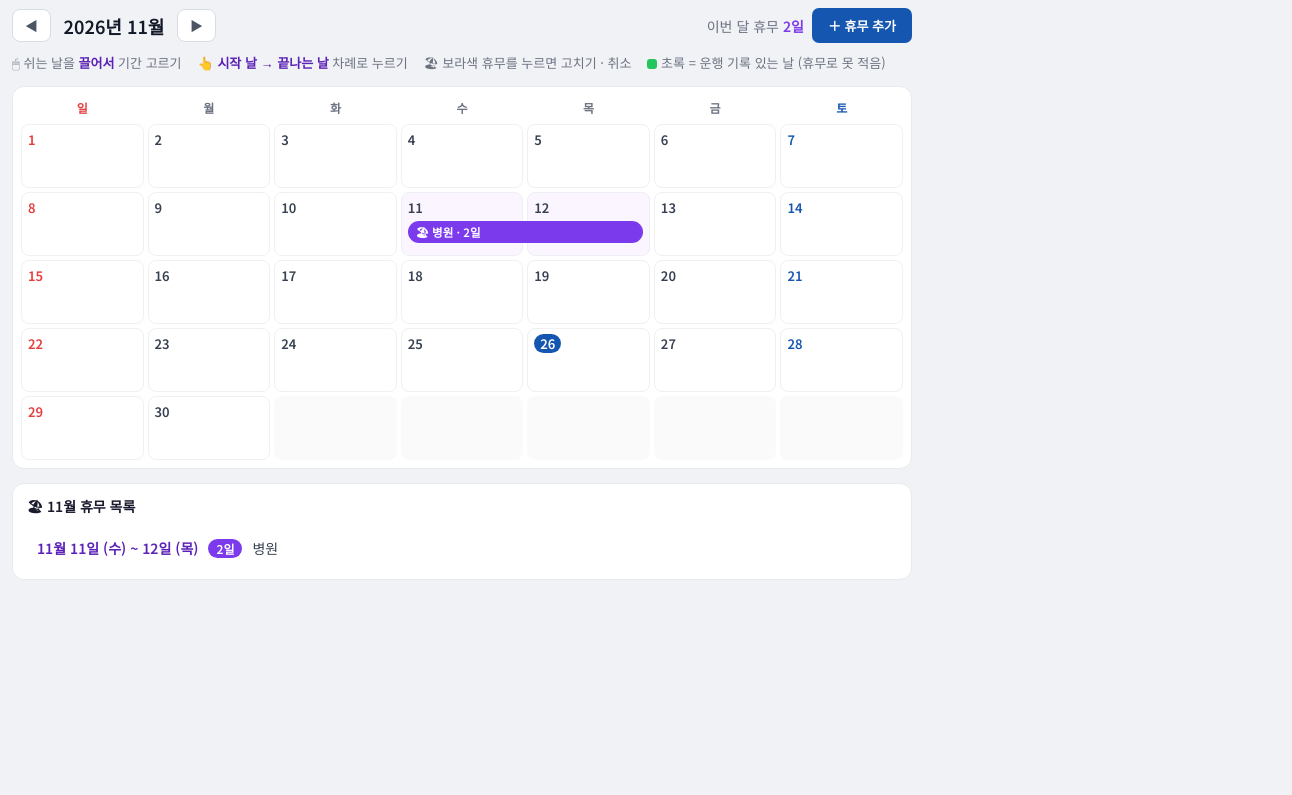
Test: 시작 날 → 끝나는 날 차례로 누르면 기간, 같은 사유로 하루씩 저장
Press Enter in the button "20", box top-left (654, 260), bottom-right (776, 324)
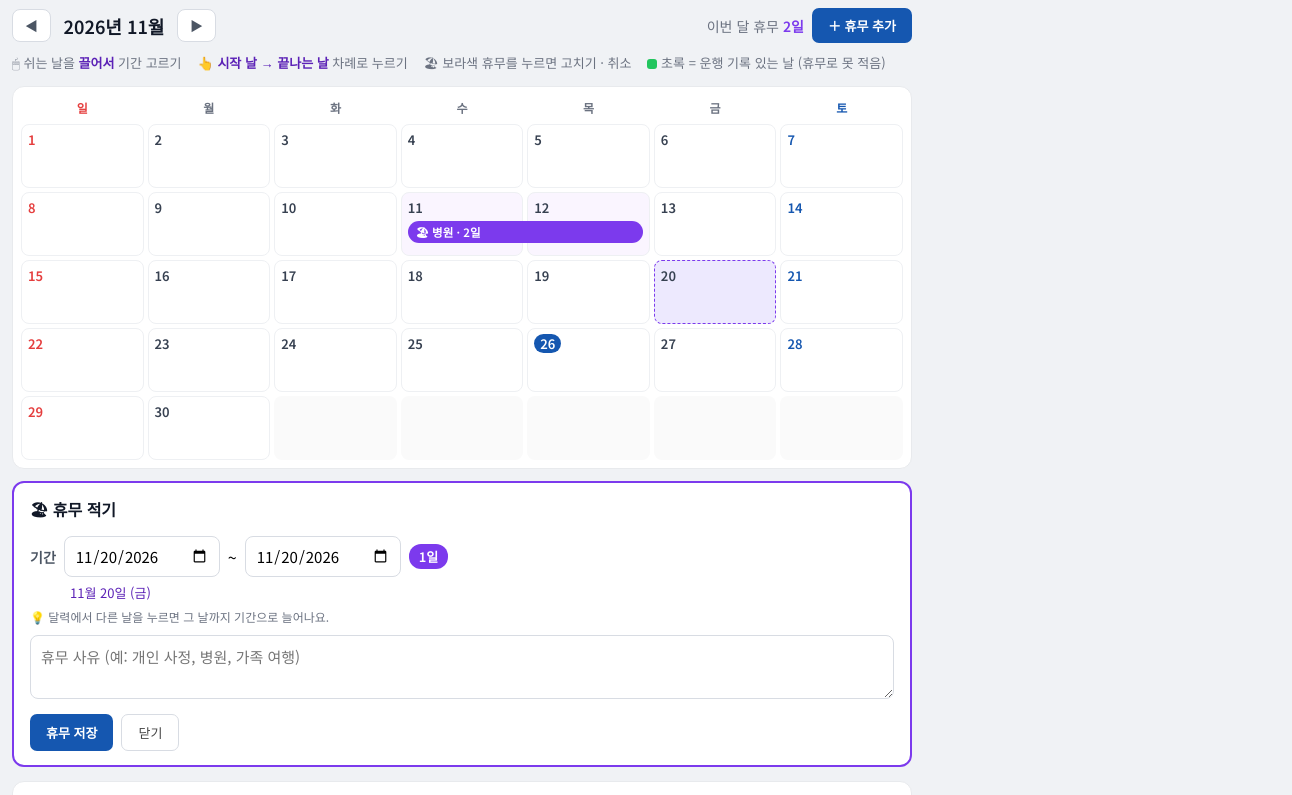
Check: the text "💡 달력에서 다른 날을 누르면 그 날까지 기간으로 늘어나요." is shown, box top-left (30, 608), bottom-right (329, 625)
Press Enter in the button "22", box top-left (21, 328), bottom-right (144, 392)
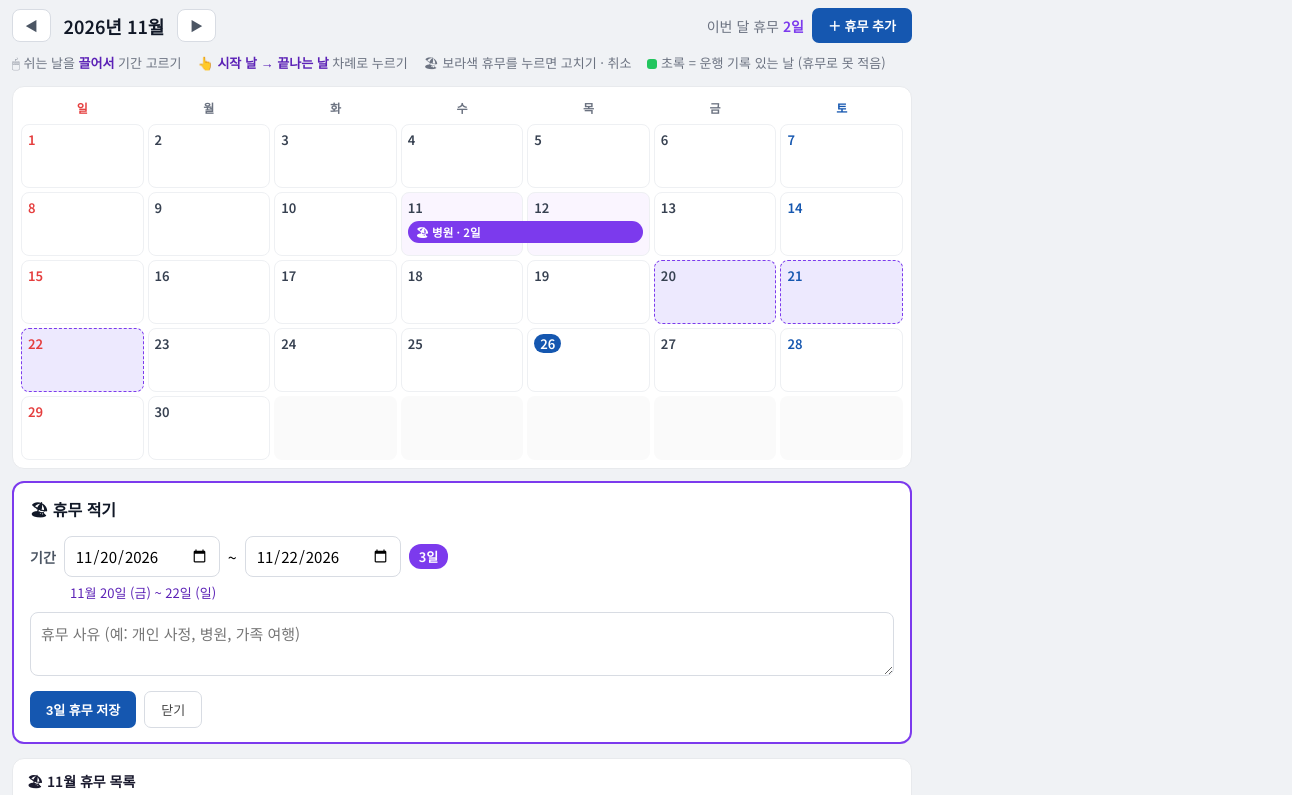
Check: the date field named "시작 날" holds "2026-11-20", box top-left (64, 536), bottom-right (220, 577)
Type "가족 여행" into the text box with placeholder "휴무 사유 (예: 개인 사정, 병원, 가족 여행)" at (462, 644), box top-left (30, 612), bottom-right (894, 676)
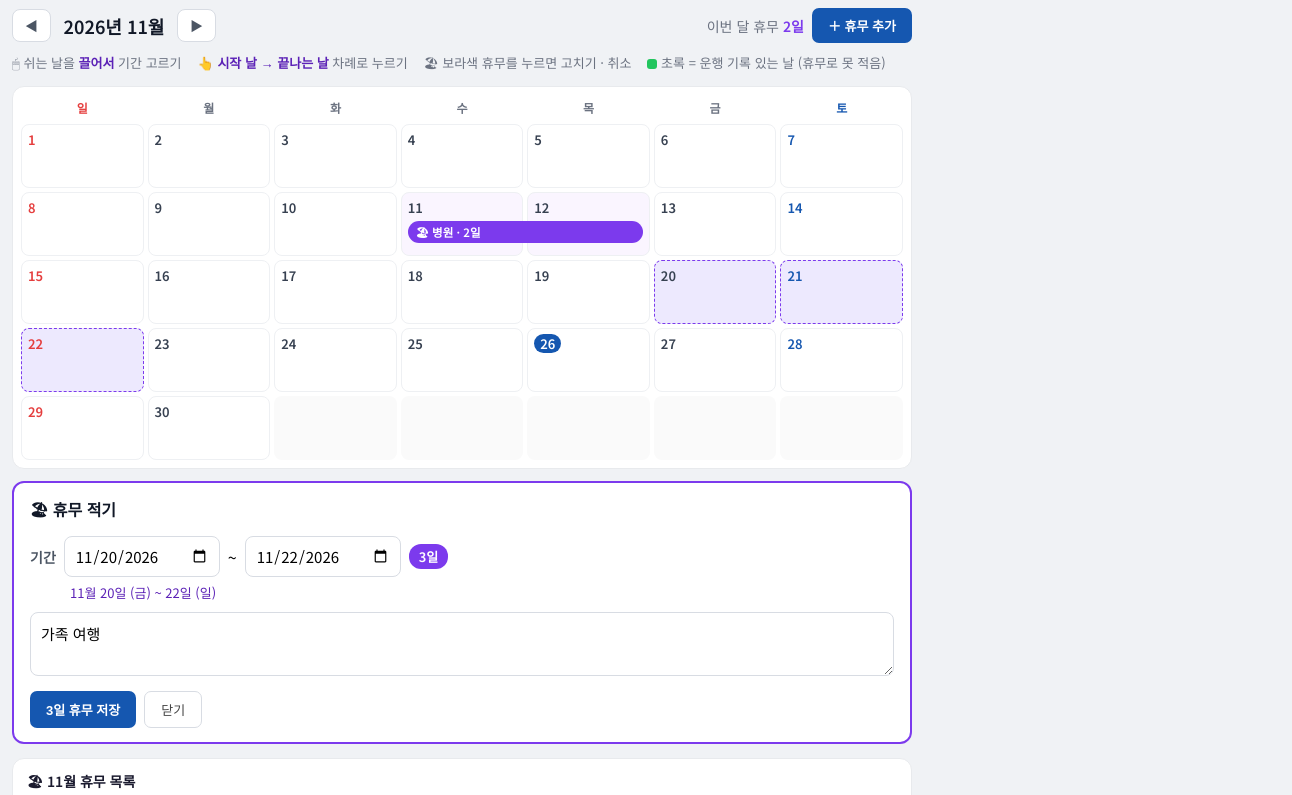
Click the button "3일 휴무 저장" at (83, 710), box top-left (30, 691), bottom-right (136, 728)
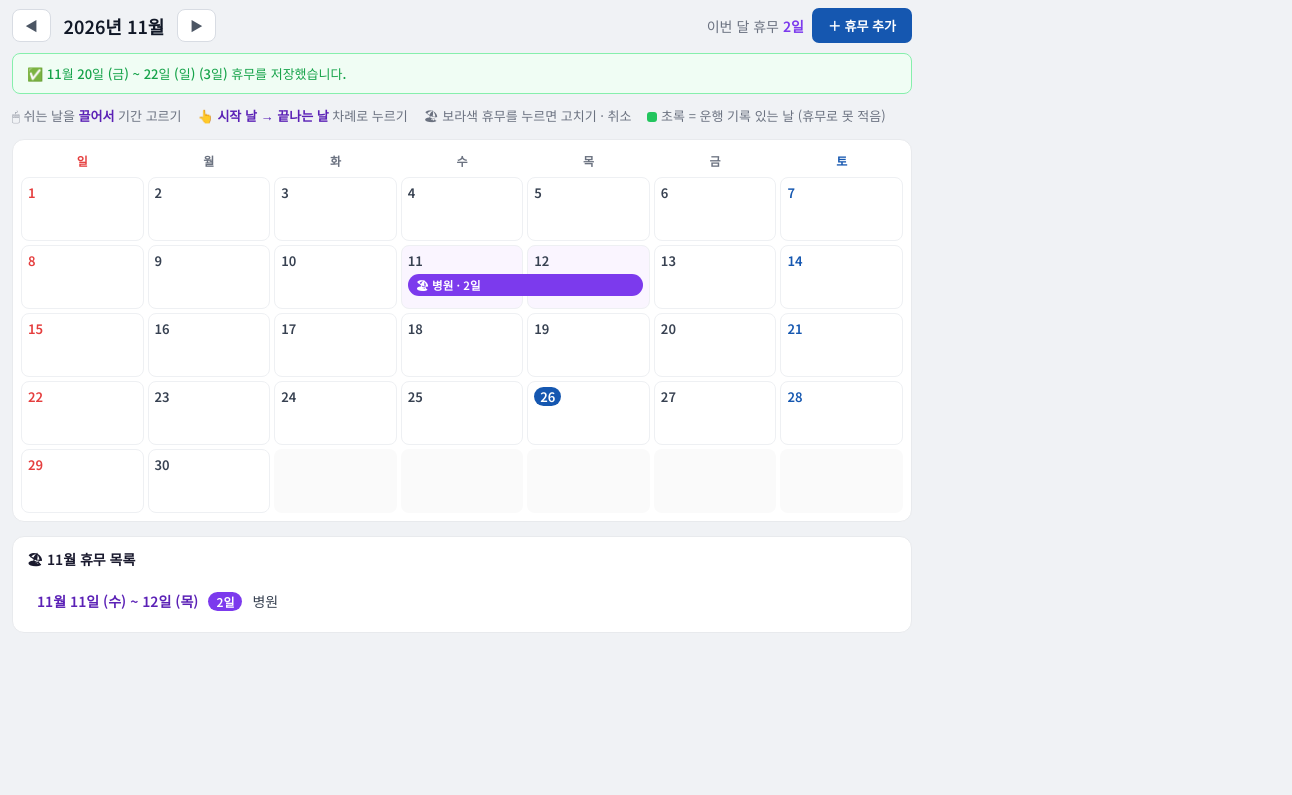
Check: the text "✅ 11월 20일 (금) ~ 22일 (일) (3일) 휴무를 저장했습니다." is shown, box top-left (12, 53), bottom-right (912, 94)
